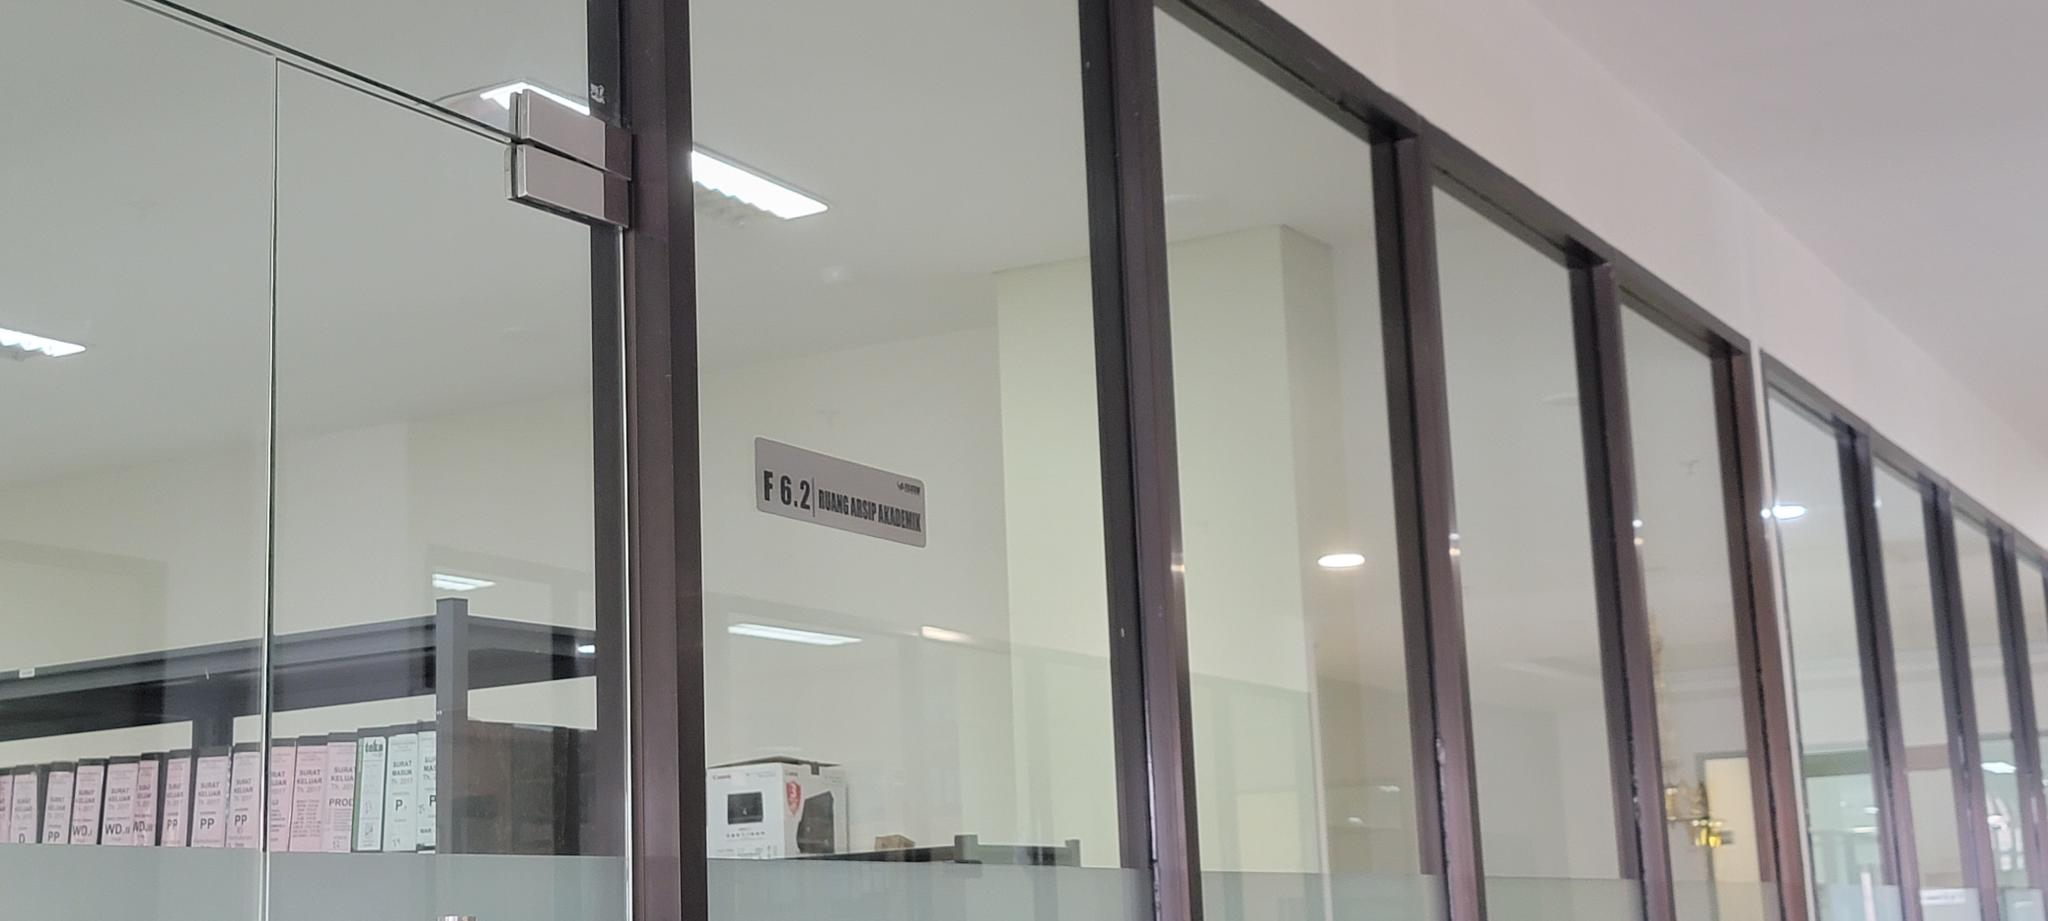plate: (755, 435, 926, 550)
